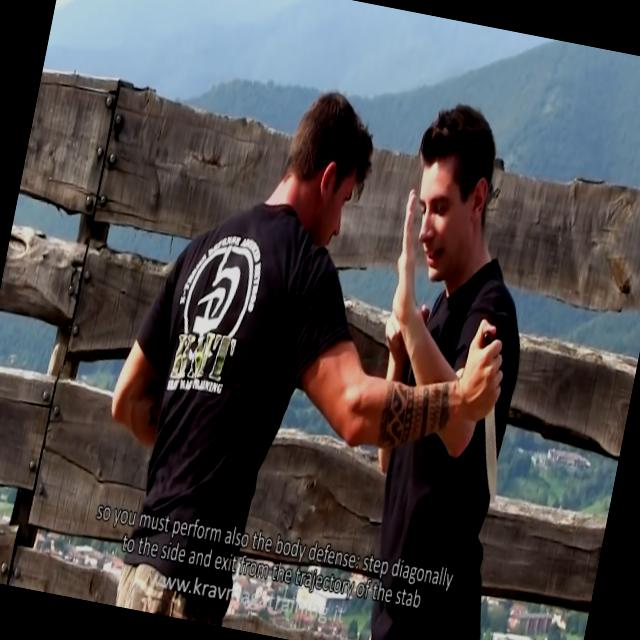knife: (437, 314, 532, 514)
